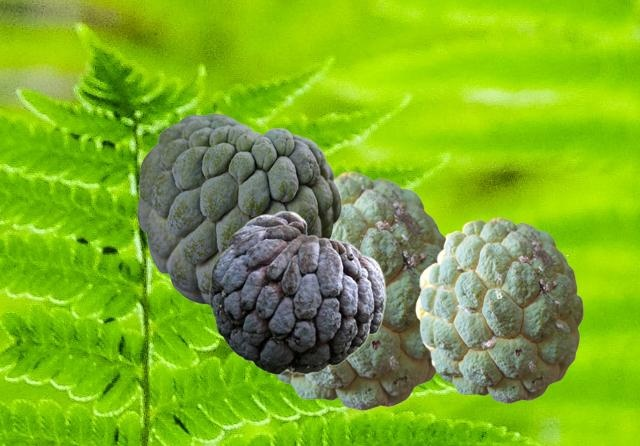atis: (273, 171, 444, 409), (137, 113, 340, 305), (415, 217, 582, 402), (209, 210, 385, 373)
